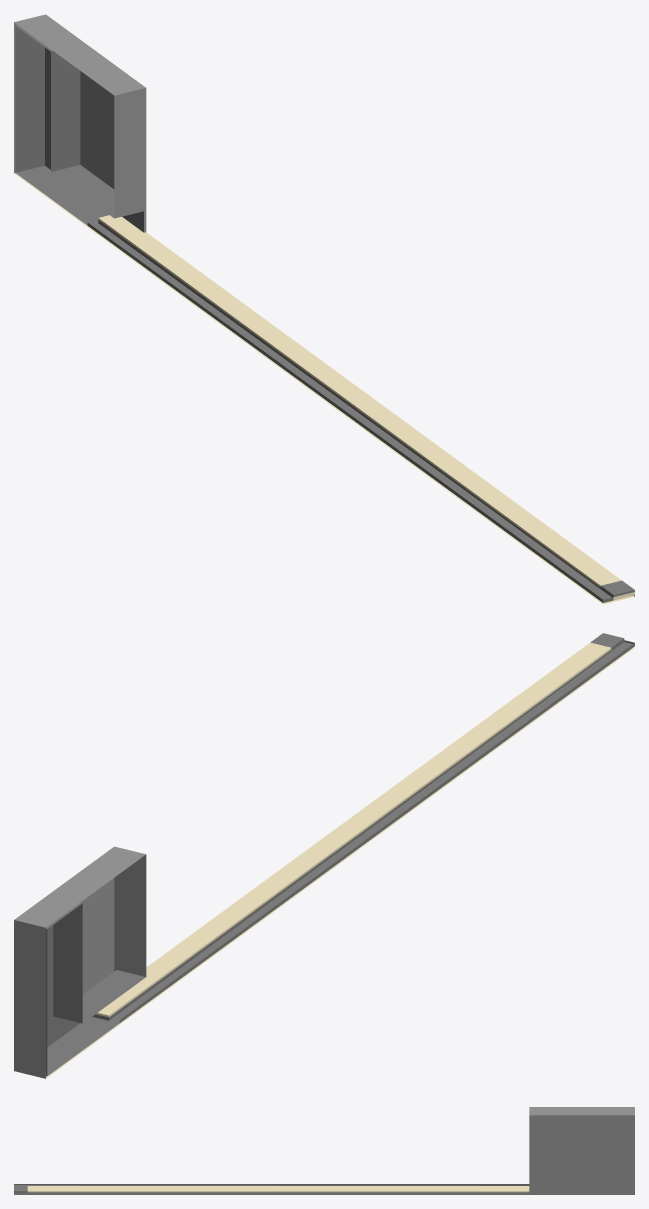
Rendered from rightGutter.fbx.
The picture shows the model from 3 angles, top to bottom: view 1: azimuth 30°, elevation 25°; view 2: azimuth 150°, elevation 25°; view 3: azimuth 270°, elevation 25°; orthographic projection. The views are drawn at different scales.
Parts seen in each view (by area): view 1: imagetostl_mesh; view 2: imagetostl_mesh; view 3: imagetostl_mesh.
Part boxes in pixels (x1,y1,x2,y2): imagetostl_mesh: (14,14,634,604); imagetostl_mesh: (14,633,634,1078); imagetostl_mesh: (14,1107,634,1194).
Size of the model in its own units: 2695 by 12205 by 86220.
